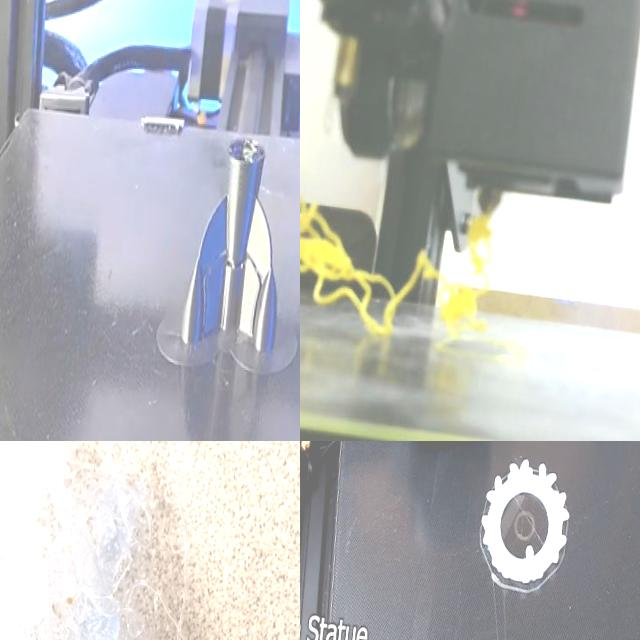spaghetti: (0, 441, 181, 640), (300, 197, 492, 338)
